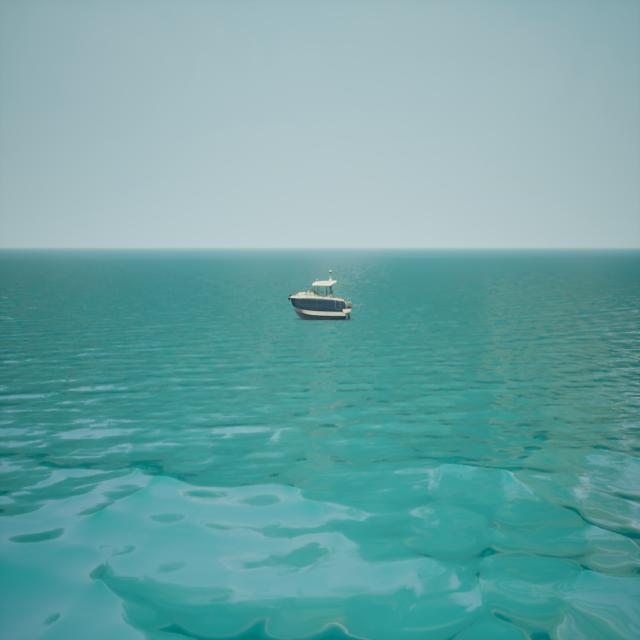ship: (288, 266, 352, 318)
